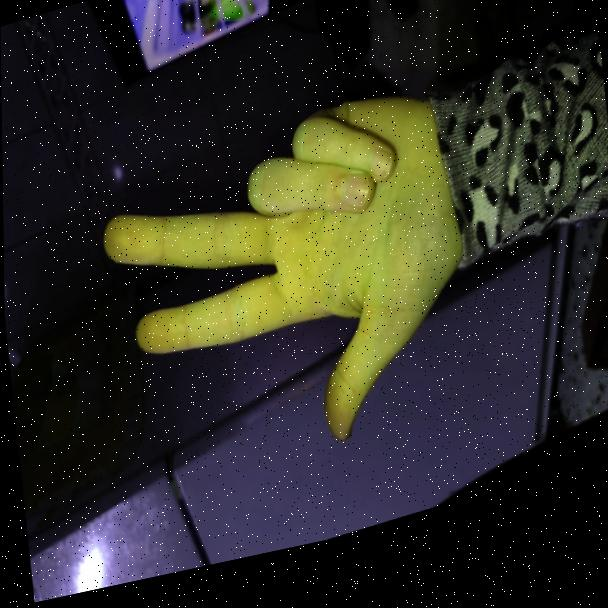three: (96, 51, 504, 502)
